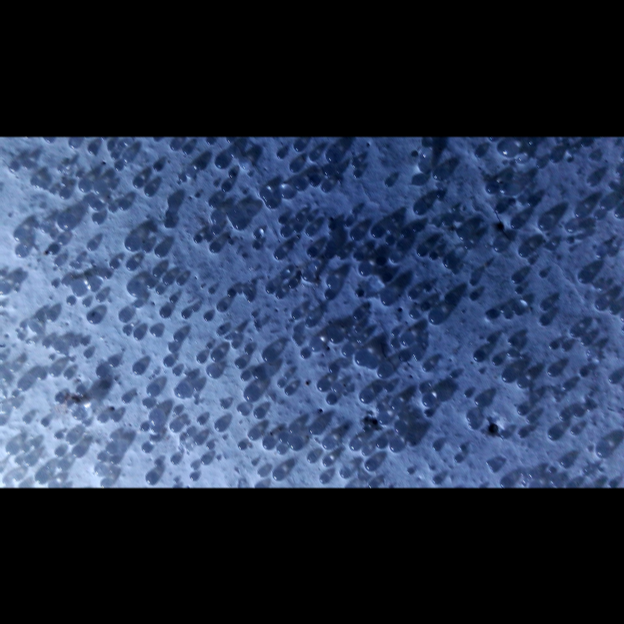GrassBeadSeg: (66, 199, 513, 526), (69, 118, 575, 398), (71, 138, 485, 476), (17, 246, 520, 519), (39, 154, 413, 508), (47, 223, 517, 495), (83, 137, 451, 461), (46, 188, 445, 483), (38, 126, 347, 467), (102, 131, 385, 492), (124, 146, 473, 424), (88, 135, 368, 476), (152, 210, 475, 493), (89, 316, 508, 521), (222, 183, 571, 429), (38, 249, 582, 403), (59, 219, 515, 401), (136, 195, 466, 437), (73, 163, 396, 408), (214, 219, 473, 521), (35, 204, 431, 401), (40, 231, 339, 491), (57, 201, 516, 365), (38, 194, 319, 456), (201, 222, 473, 485), (281, 149, 512, 455), (82, 332, 480, 507), (49, 99, 245, 442), (239, 123, 553, 332), (244, 223, 461, 524), (224, 166, 540, 372), (111, 261, 574, 398), (122, 186, 397, 411), (27, 327, 456, 470), (328, 166, 537, 454), (154, 275, 448, 478), (80, 309, 429, 480), (78, 227, 340, 451), (278, 182, 495, 450), (76, 159, 262, 471), (58, 220, 306, 451), (69, 212, 432, 367), (161, 293, 421, 509), (67, 172, 541, 286), (40, 287, 532, 390), (185, 255, 474, 428), (184, 321, 509, 473), (312, 193, 523, 423), (96, 177, 268, 459), (292, 202, 496, 437), (7, 192, 224, 408), (121, 237, 387, 413), (151, 224, 334, 468), (110, 312, 500, 421), (209, 205, 497, 346), (261, 306, 498, 477), (139, 152, 275, 449), (228, 203, 486, 355), (290, 228, 542, 382), (7, 274, 249, 432), (133, 143, 282, 391), (179, 220, 486, 336), (55, 244, 272, 406), (71, 154, 192, 441), (45, 358, 493, 435), (135, 108, 245, 418), (210, 344, 487, 466), (89, 305, 304, 458), (312, 261, 522, 417), (99, 178, 223, 439), (91, 160, 471, 245), (80, 232, 404, 331), (56, 115, 201, 330), (26, 178, 157, 400), (158, 151, 303, 349), (223, 175, 331, 425), (99, 243, 343, 353), (129, 195, 326, 331), (412, 346, 540, 548), (111, 284, 434, 364), (244, 181, 336, 457), (38, 190, 322, 279), (240, 215, 377, 399), (74, 229, 196, 426), (56, 403, 481, 457), (59, 330, 276, 435), (153, 241, 344, 360), (154, 101, 317, 238), (168, 140, 238, 457), (392, 380, 550, 520), (102, 395, 420, 464), (124, 327, 310, 440), (143, 205, 285, 353), (152, 298, 367, 393), (132, 287, 268, 432), (302, 341, 535, 424), (60, 230, 158, 427), (157, 236, 357, 326), (134, 372, 489, 422), (236, 353, 445, 437), (104, 376, 369, 442), (249, 236, 365, 375), (207, 421, 511, 474), (376, 197, 496, 331), (313, 415, 460, 520), (113, 274, 255, 381), (8, 395, 405, 433), (125, 217, 218, 379), (48, 247, 188, 353), (187, 301, 489, 350), (197, 399, 439, 457), (422, 215, 557, 318), (141, 217, 217, 383), (98, 205, 220, 308), (269, 395, 407, 478), (240, 277, 344, 384), (298, 282, 372, 432), (111, 229, 337, 275), (332, 175, 499, 237), (72, 247, 178, 340), (129, 382, 341, 427), (363, 320, 446, 434), (451, 279, 511, 434), (414, 274, 486, 397), (202, 277, 329, 341), (106, 209, 207, 287), (298, 160, 340, 345), (258, 312, 364, 385), (206, 364, 305, 439), (178, 315, 245, 424), (68, 229, 133, 337), (322, 265, 417, 338), (39, 367, 168, 420), (13, 199, 90, 287), (165, 375, 261, 445), (151, 422, 318, 462), (7, 280, 80, 371), (131, 337, 535, 352), (36, 146, 131, 208), (77, 312, 435, 328), (273, 156, 379, 210), (244, 163, 319, 238), (80, 297, 232, 334), (8, 324, 97, 387), (317, 373, 457, 408), (94, 339, 398, 355), (364, 228, 491, 264), (135, 316, 178, 418), (381, 456, 440, 528), (250, 471, 360, 507), (356, 399, 490, 426), (520, 219, 565, 296), (79, 134, 160, 176), (70, 179, 84, 399), (81, 256, 123, 329), (149, 338, 188, 411), (297, 244, 369, 283), (456, 356, 482, 458), (62, 89, 116, 138), (60, 362, 145, 390), (9, 281, 63, 318), (218, 268, 260, 315), (91, 99, 159, 125), (7, 255, 37, 311), (427, 385, 490, 409), (164, 263, 228, 286), (193, 368, 247, 394), (116, 317, 132, 353), (307, 357, 325, 381), (430, 356, 432, 357)
